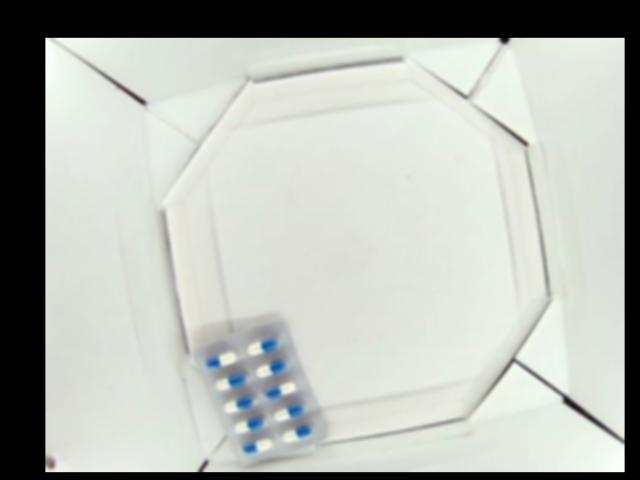Medicine: (192, 319, 328, 461)
